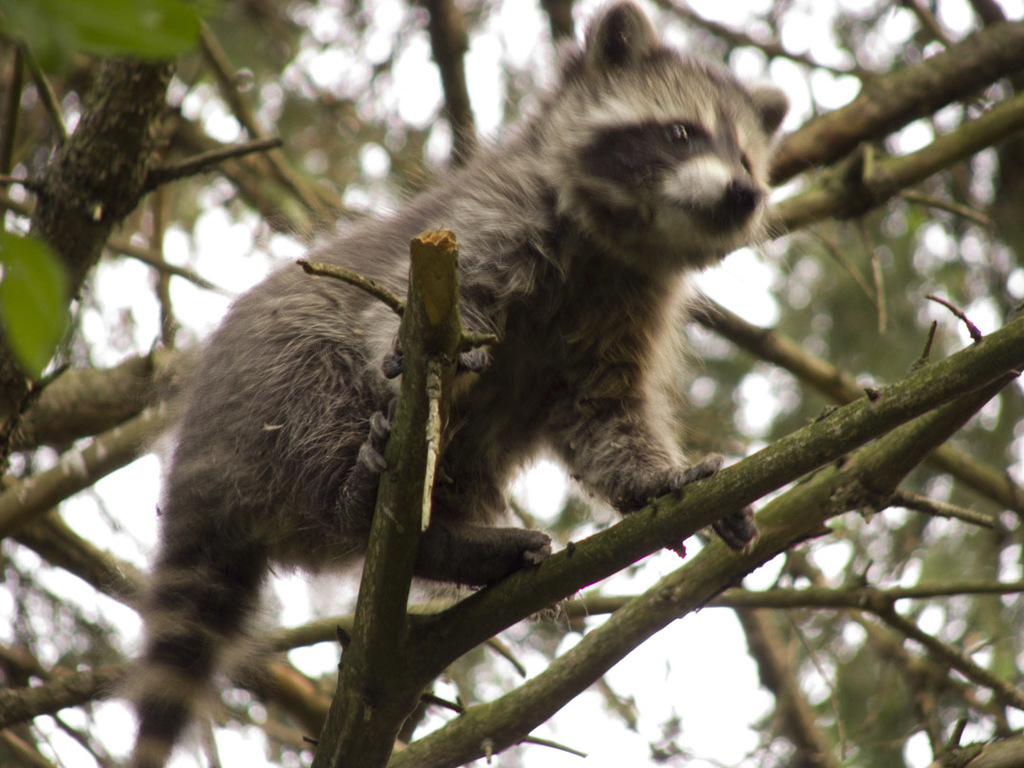raccoon: (155, 4, 786, 603)
